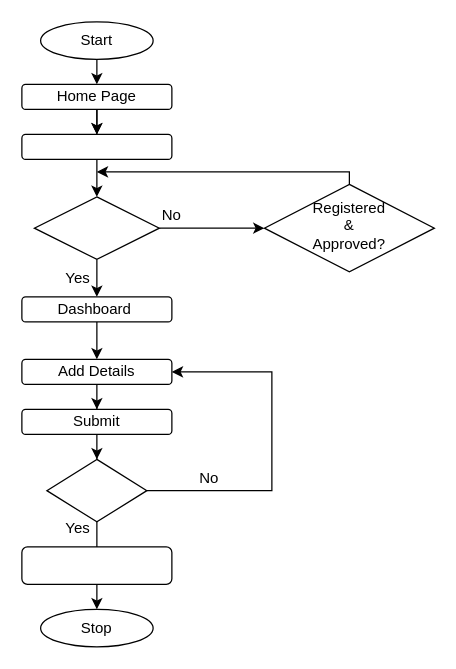
This 456x669 diagram has some shape labels left out. The shapes that lost their labels are listed below. From the top down, each one's box as (x1, y1, x2, y2) in pixels, then its label:
(21, 133, 172, 159): Login Interface
(33, 196, 159, 259): Logged in??
(46, 458, 147, 522): Verified?
(21, 546, 172, 584): Redirect to 'Dashboard'
